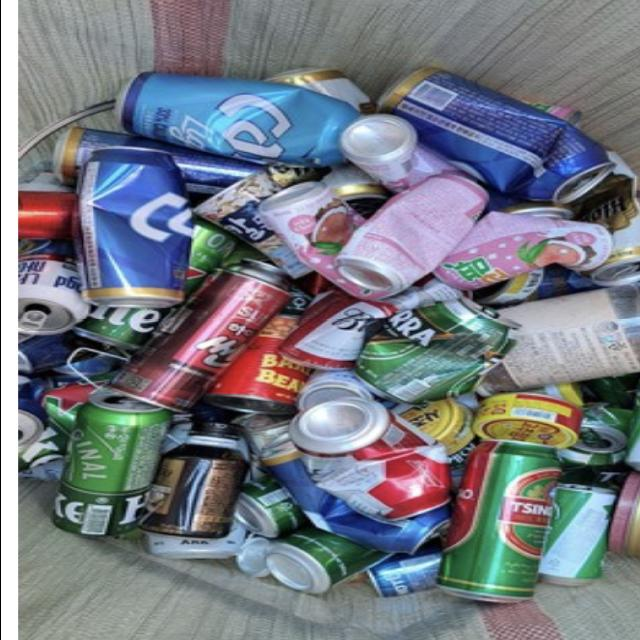can: (364, 56, 618, 224), (105, 250, 298, 418), (318, 154, 492, 306), (412, 437, 564, 609), (286, 382, 450, 532), (44, 386, 172, 546), (348, 292, 512, 411), (467, 384, 591, 454)
